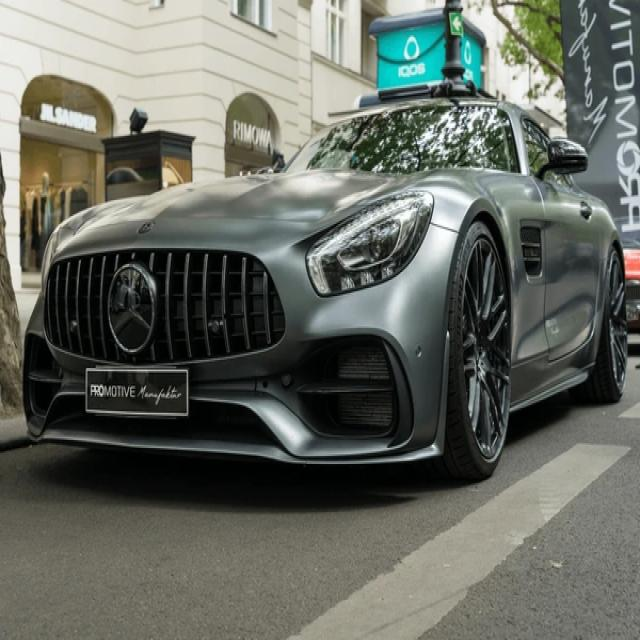mercedes: (107, 266, 161, 356)
